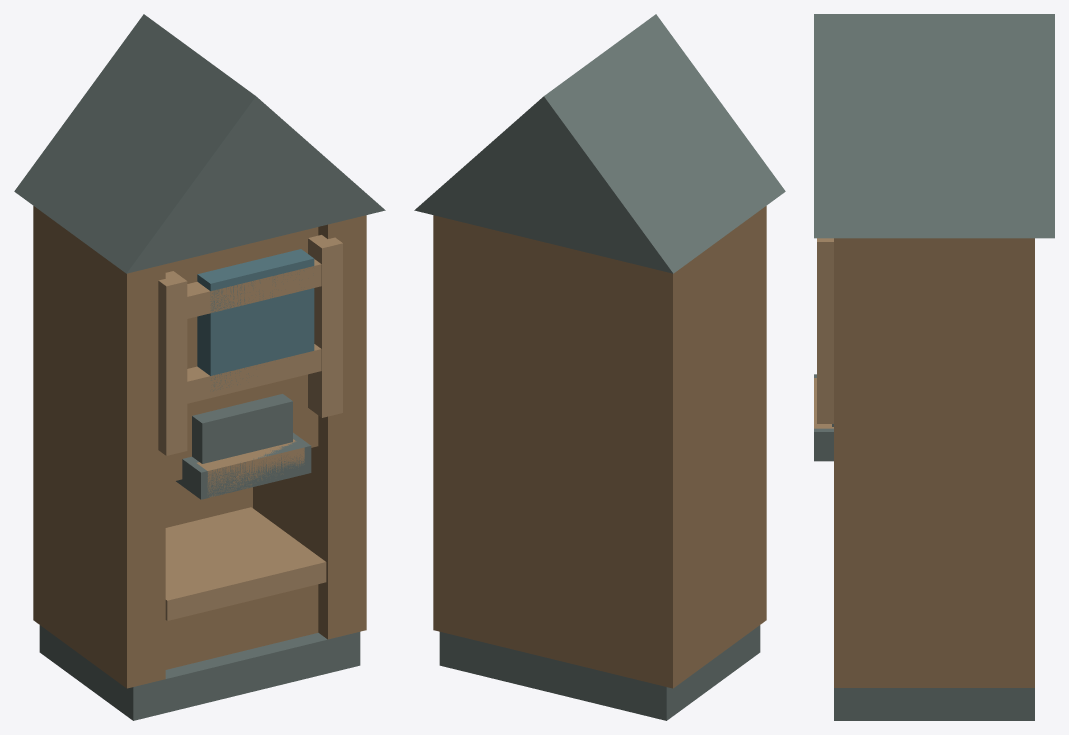
The model's file is range_ball_dispenser_01.glb.
3 views of the same model, side by side, from view 1: azimuth 30°, elevation 25°; view 2: azimuth 150°, elevation 25°; view 3: azimuth 270°, elevation 25° (orthographic). The views are drawn at different scales.
Visible parts, largest first — view 1: Range_ball_dispenser_01; view 2: Range_ball_dispenser_01; view 3: Range_ball_dispenser_01.
Boxes of the visible parts, x1=… form: Range_ball_dispenser_01: x1=14, y1=14, x2=385, y2=720; Range_ball_dispenser_01: x1=414, y1=14, x2=785, y2=720; Range_ball_dispenser_01: x1=814, y1=14, x2=1054, y2=720.
Size of the model in its own units: 0.8 by 1.78 by 0.6.
